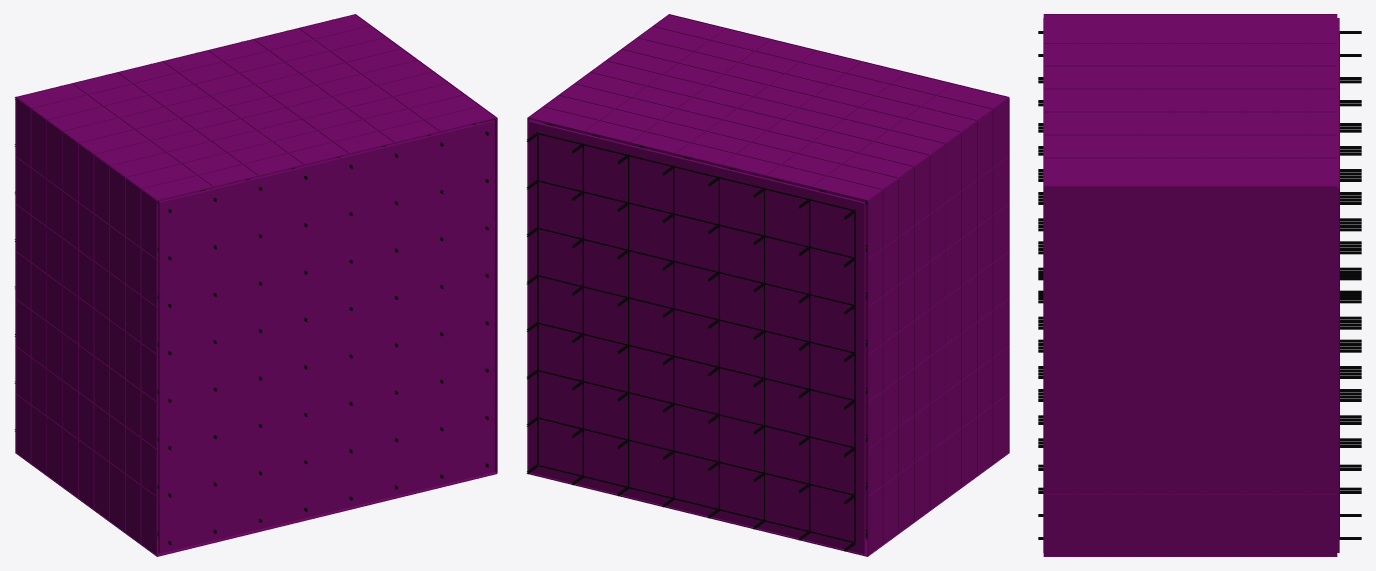
Rendered from anothertest.obj.
The picture shows the model from 3 angles, left to right: view 1: azimuth 30°, elevation 25°; view 2: azimuth 150°, elevation 25°; view 3: azimuth 270°, elevation 25°; orthographic projection. The views are drawn at different scales.
Parts seen in each view (by area): view 1: Default_Floor, Glass, Aluminum, Steel_ASTM_A992; view 2: Default_Floor, Glass, Aluminum, Steel_ASTM_A992; view 3: Glass, Aluminum, Steel_ASTM_A992, Default_Floor.
Part boxes in pixels (x1,y1,x2,y2): Default_Floor: (157, 120, 494, 553); Glass: (16, 15, 496, 555); Aluminum: (15, 14, 497, 556); Steel_ASTM_A992: (14, 41, 488, 544); Default_Floor: (529, 120, 867, 554); Glass: (528, 15, 1008, 555); Aluminum: (527, 14, 1009, 556); Steel_ASTM_A992: (526, 123, 867, 551); Glass: (1044, 15, 1336, 555); Aluminum: (1043, 14, 1337, 556); Steel_ASTM_A992: (1038, 31, 1361, 539); Default_Floor: (1043, 18, 1339, 552).
Size of the model in its own units: 72.2 by 72.2 by 57.12.
